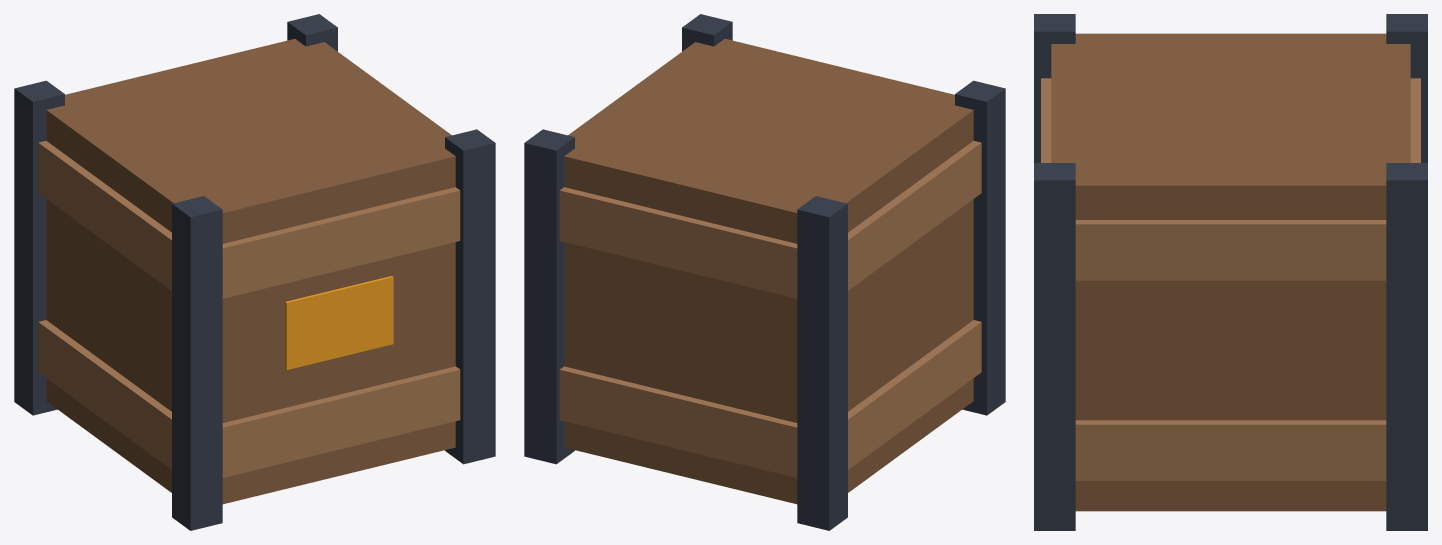
Rendered from caja.glb.
3 views of the same model, side by side, from view 1: azimuth 30°, elevation 25°; view 2: azimuth 150°, elevation 25°; view 3: azimuth 270°, elevation 25° (orthographic). The views are drawn at different scales.
Visible parts, largest first — view 1: cuerpo, esquinera_3, liston_norte_1, liston_norte_2, esquinera_1, esquinera_4, liston_oeste_1, liston_oeste_2, etiqueta, esquinera_2; view 2: cuerpo, esquinera_4, liston_sur_1, liston_sur_2, esquinera_2, esquinera_3, liston_oeste_1, liston_oeste_2, esquinera_1; view 3: cuerpo, liston_este_1, liston_este_2, esquinera_1, esquinera_2, esquinera_3, esquinera_4, liston_norte_2, liston_sur_2.
Part boxes in pixels (box(x1,y1,x2,y2)): cuerpo: box(46, 38, 455, 504); esquinera_3: box(172, 196, 222, 530); liston_norte_1: box(222, 366, 460, 477); liston_norte_2: box(222, 187, 460, 298); esquinera_1: box(445, 129, 495, 464); esquinera_4: box(14, 80, 64, 415); liston_oeste_1: box(38, 320, 171, 469); liston_oeste_2: box(38, 141, 171, 290); etiqueta: box(285, 276, 393, 370); esquinera_2: box(287, 14, 337, 51); cuerpo: box(564, 38, 973, 504); esquinera_4: box(797, 196, 847, 530); liston_sur_1: box(559, 366, 797, 477); liston_sur_2: box(559, 187, 797, 298); esquinera_2: box(524, 129, 574, 464); esquinera_3: box(955, 80, 1005, 415); liston_oeste_1: box(848, 320, 981, 469); liston_oeste_2: box(848, 141, 981, 290); esquinera_1: box(682, 14, 732, 51); cuerpo: box(1051, 33, 1410, 511); liston_este_1: box(1075, 420, 1386, 480); liston_este_2: box(1075, 220, 1386, 280); esquinera_1: box(1034, 163, 1075, 530); esquinera_2: box(1386, 163, 1427, 530); esquinera_3: box(1034, 14, 1075, 162); esquinera_4: box(1386, 14, 1427, 162); liston_norte_2: box(1041, 78, 1051, 162); liston_sur_2: box(1410, 78, 1420, 162).
Bounding box in the file's own units: 0.57 × 0.56 × 0.57.
